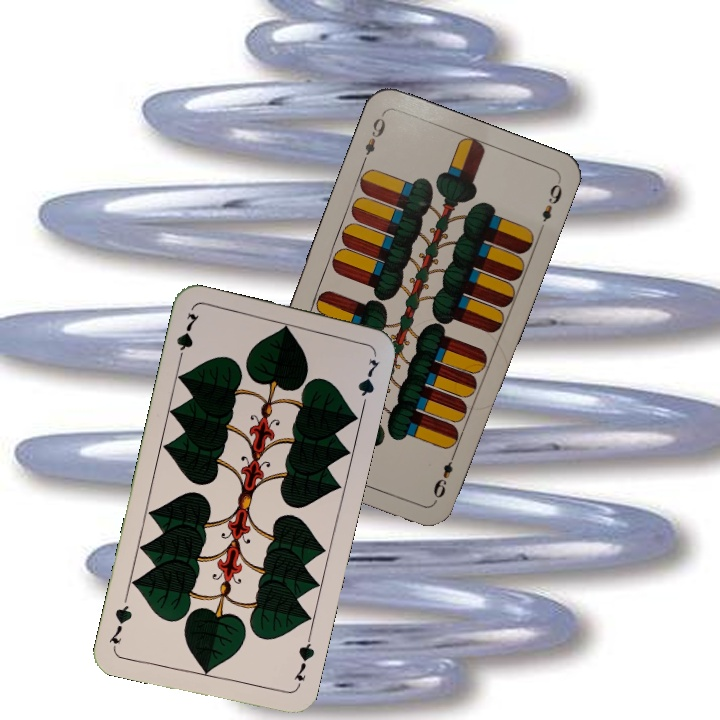E9: (429, 447, 459, 504), (358, 110, 388, 166)
G7: (172, 309, 202, 367), (290, 633, 317, 692)
